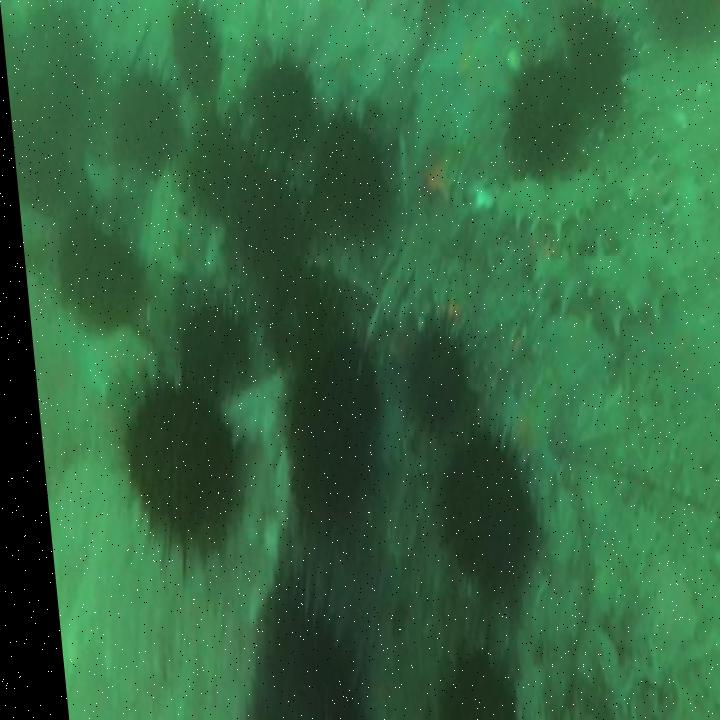echinus: (274, 345, 383, 537), (110, 394, 227, 554), (430, 436, 527, 590), (238, 604, 340, 720), (221, 160, 311, 274), (505, 61, 585, 182), (53, 236, 140, 330), (272, 270, 355, 361), (563, 0, 627, 117), (104, 75, 177, 176), (313, 121, 385, 222), (396, 329, 463, 434), (246, 59, 312, 153), (167, 2, 228, 100), (183, 121, 243, 219), (422, 650, 503, 720), (173, 306, 240, 382)
holothurian: (528, 249, 650, 338), (487, 176, 604, 235)
